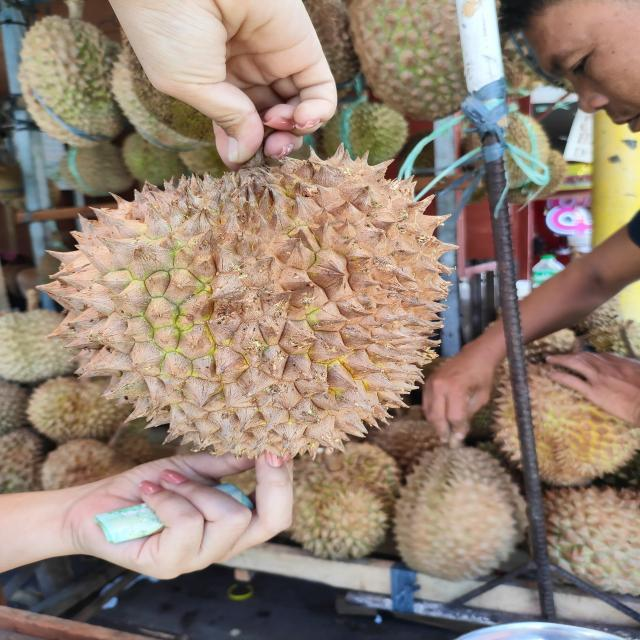mature: (30, 145, 452, 465), (391, 442, 529, 583)
